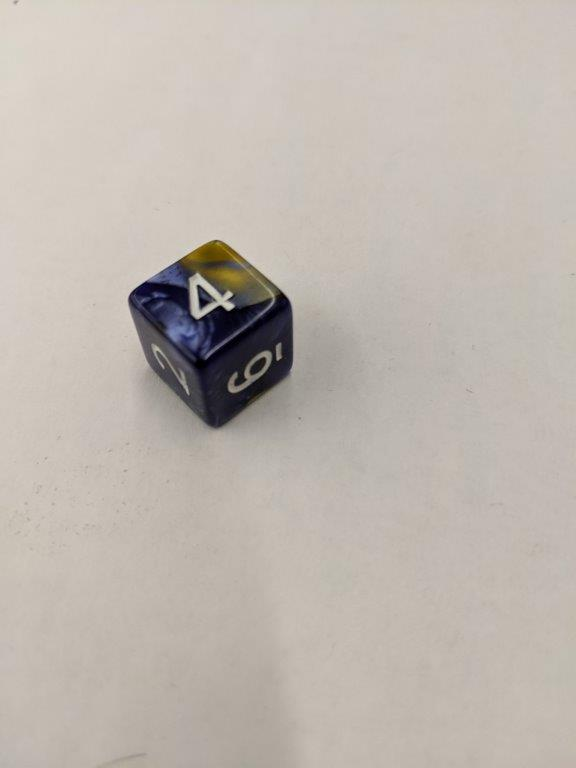d6-4: (128, 239, 297, 427)
